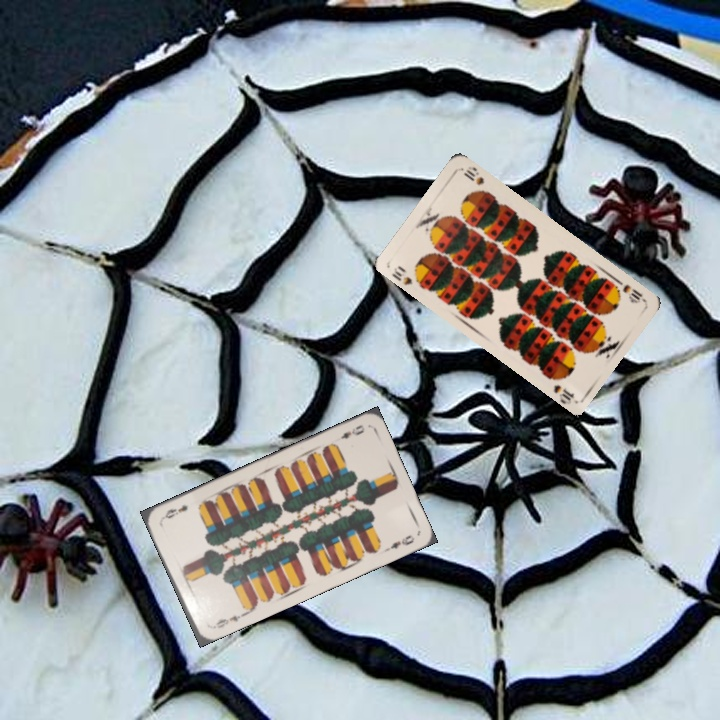E9: (207, 609, 246, 632), (336, 421, 367, 442)
S10: (388, 262, 424, 289), (618, 280, 647, 306)
